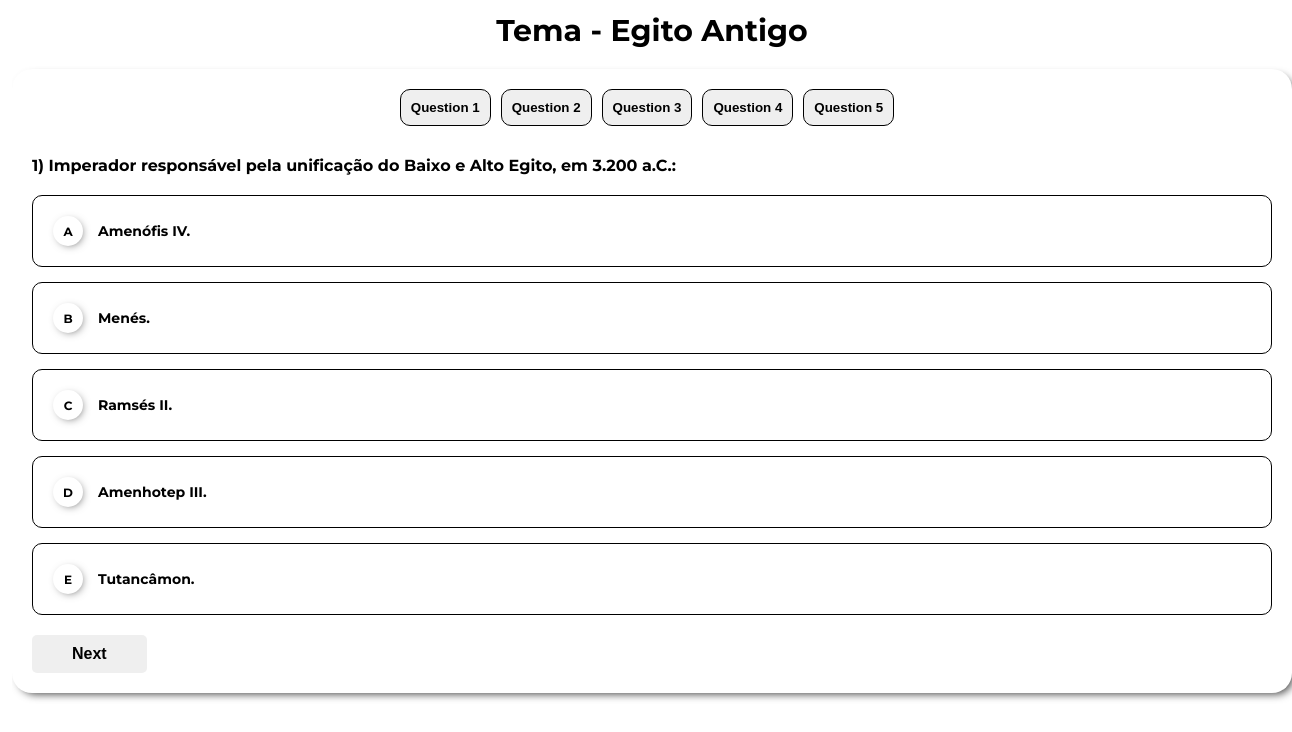
Test: QuizPage › should render an error if the user didn't answer all the questions
What coordinates should you click on to do the following:
click the button "Next"
I would click on:
 (89, 654)
Its box is [32,635,147,673].
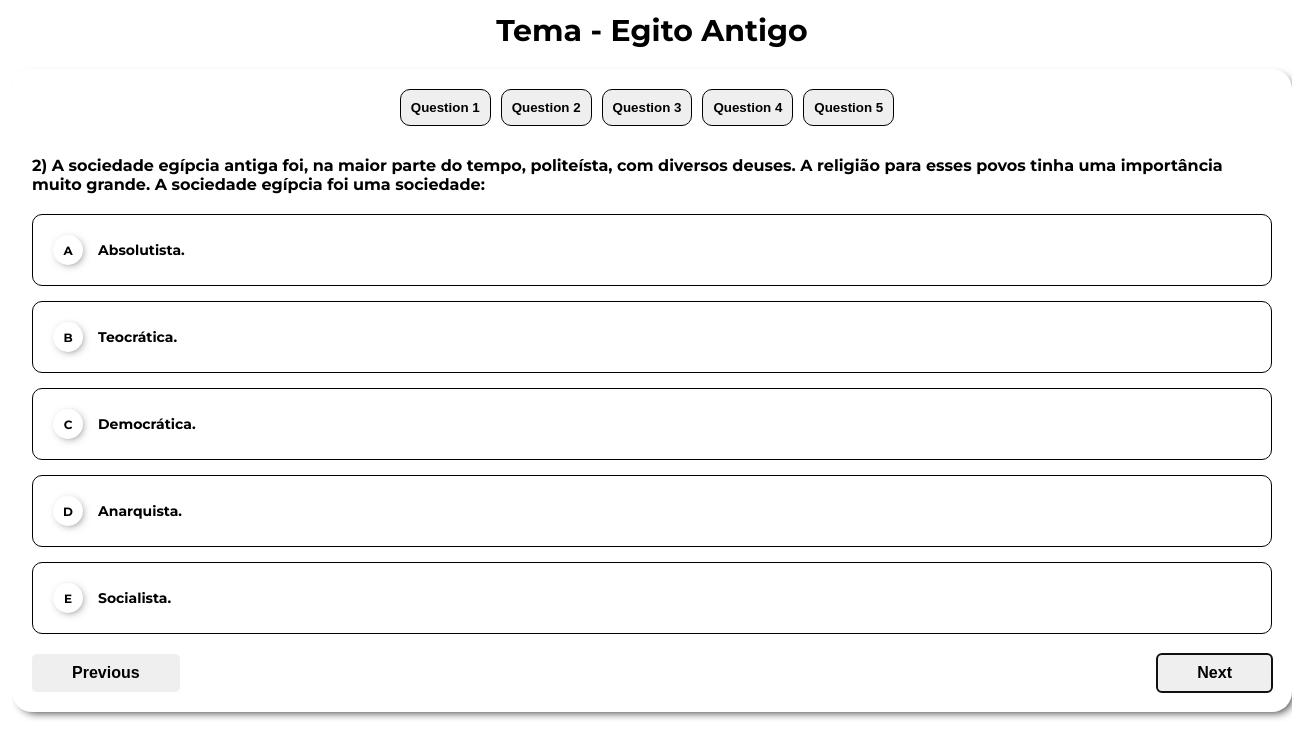
What coordinates should you click on to do the following:
click the button "Next"
I would click on:
 (1215, 673)
Its box is [1157,654,1272,692].
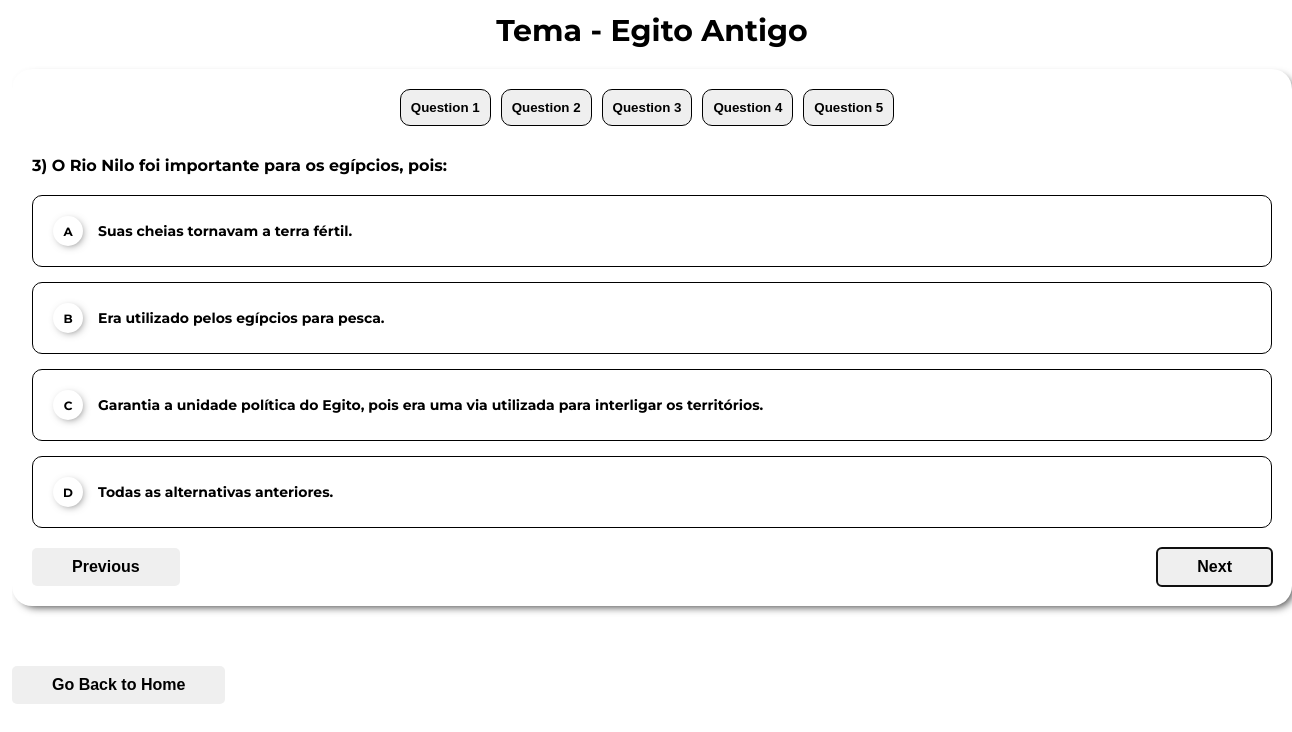
What coordinates should you click on to do the following:
click the button "Next"
I would click on:
 (1215, 567)
Its box is [1157,548,1272,586].
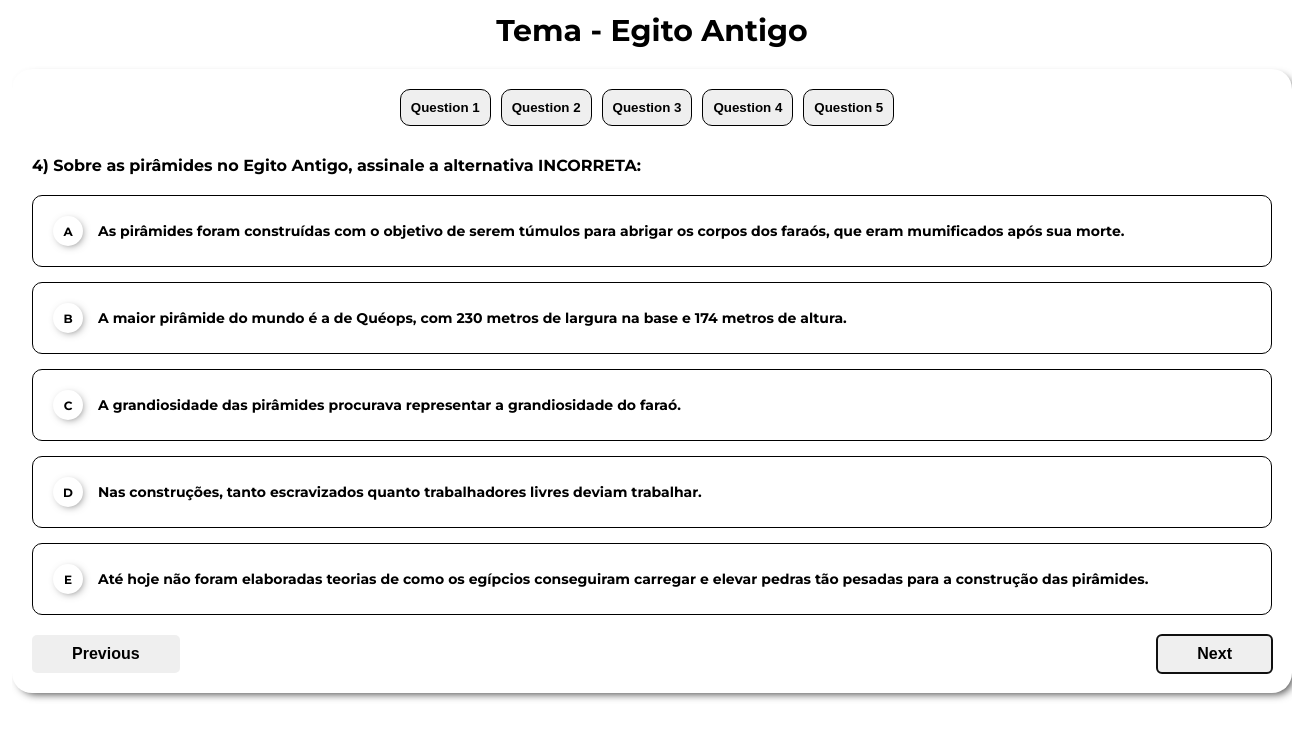
What coordinates should you click on to do the following:
click the button "Next"
I would click on:
 (1215, 654)
Its box is [1157,635,1272,673].
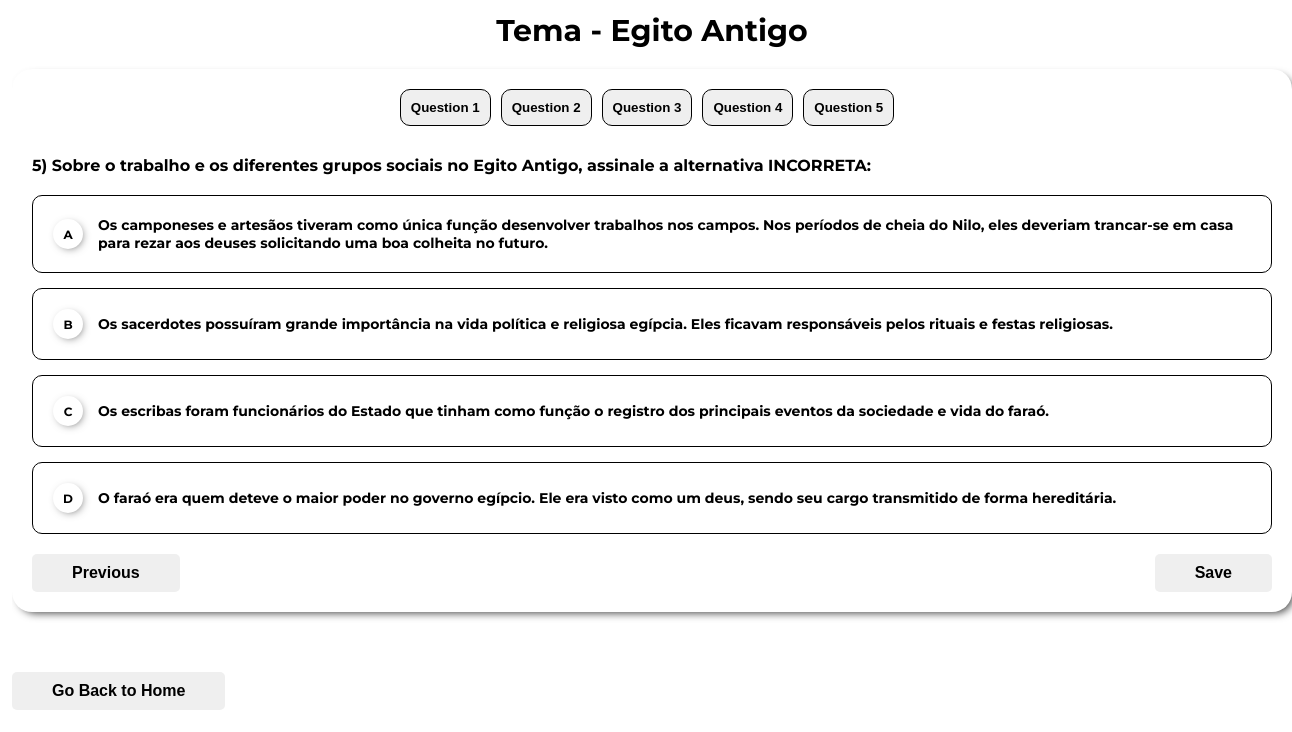
What coordinates should you click on to do the following:
click the button "Save"
I would click on:
 (1213, 573)
Its box is [1155,554,1272,592].
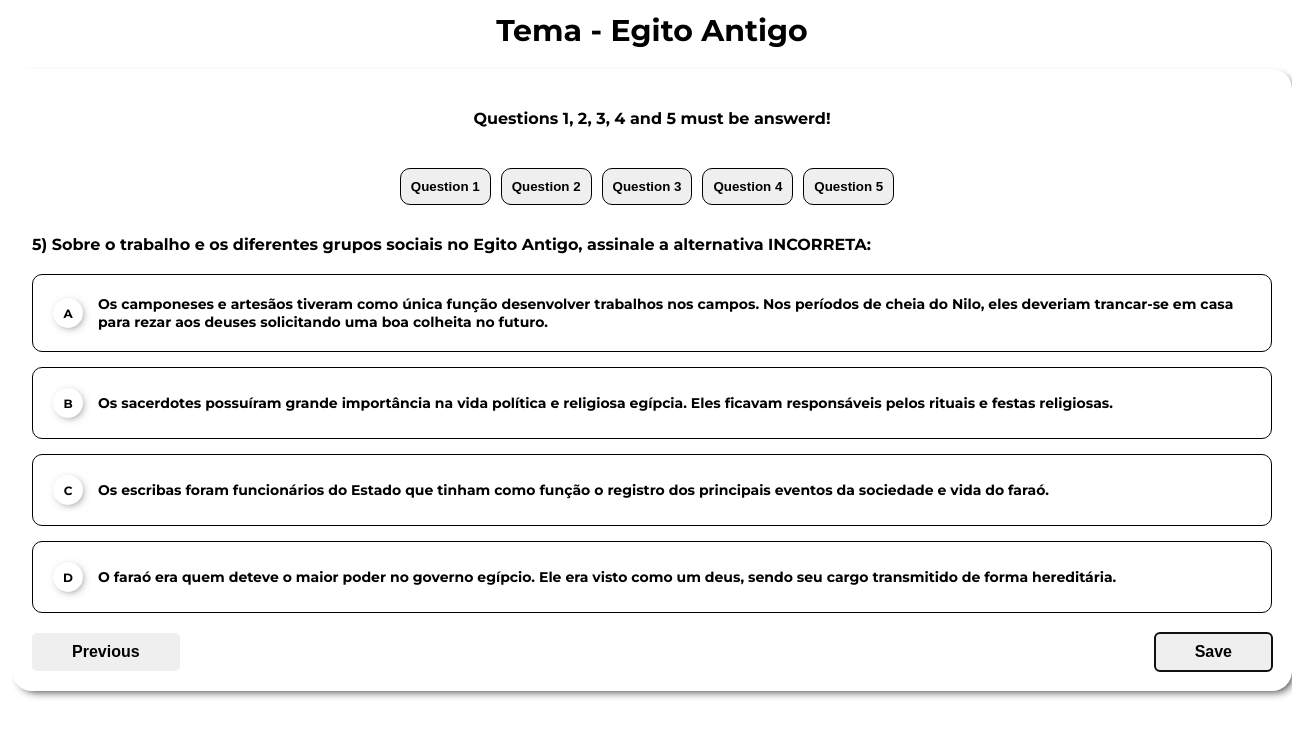
Expected: the text "Questions 1, 2, 3, 4 and 5 must be answerd!" is shown, [473,109,830,128]
